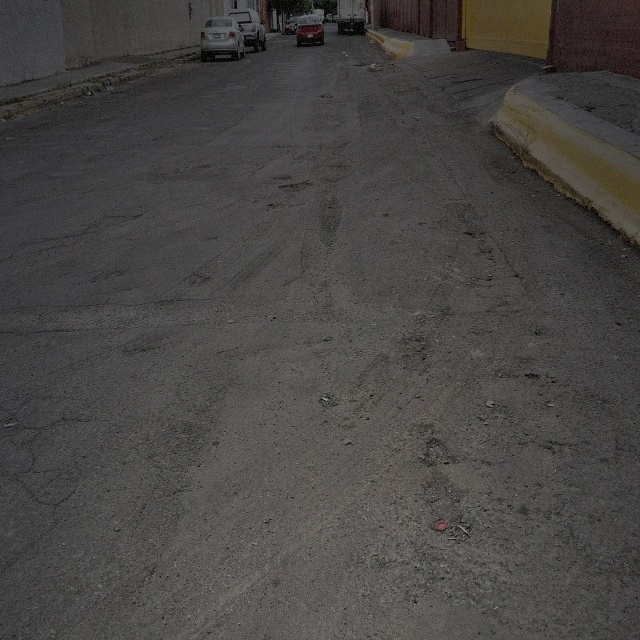pothole: (318, 188, 345, 252), (424, 435, 456, 463), (279, 178, 314, 194), (320, 92, 334, 102), (352, 62, 365, 69)
